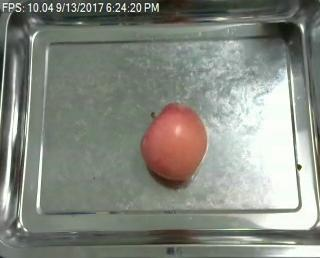apple: (140, 103, 207, 181)
